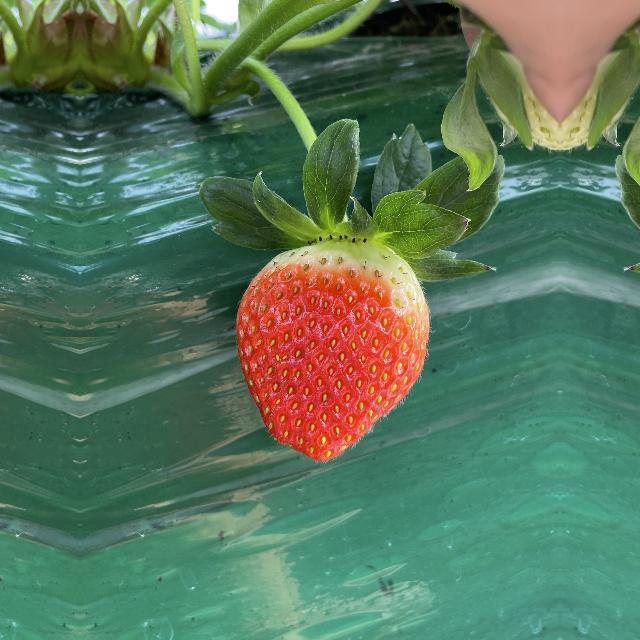Health_100: (228, 231, 440, 474)
